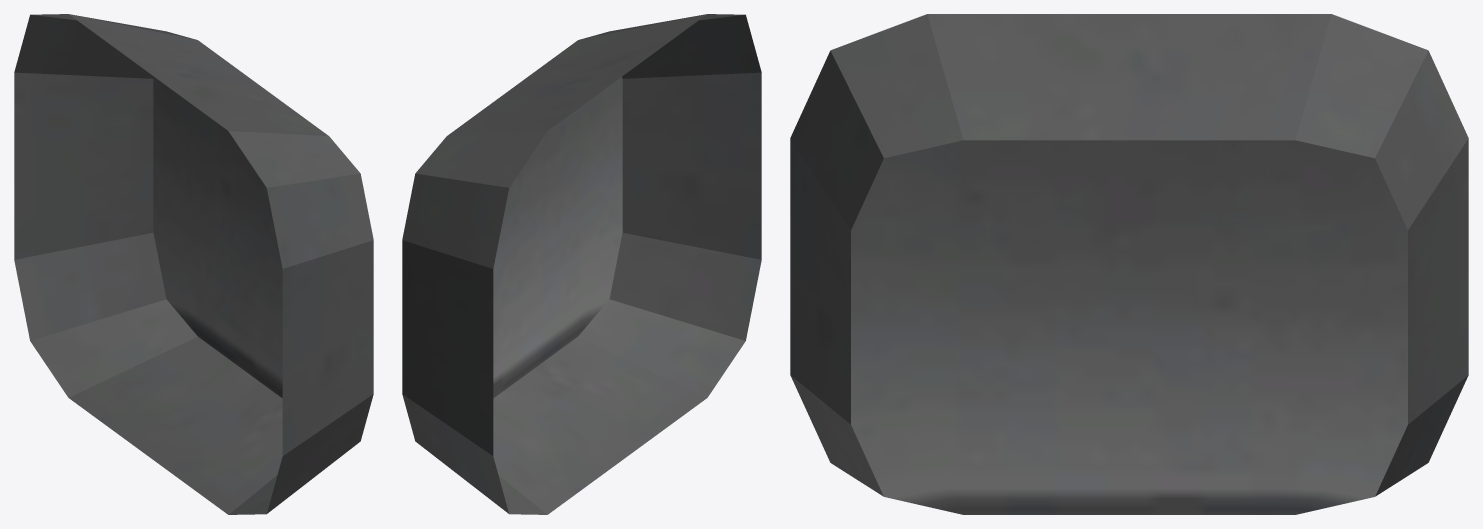
File: nt_2020_wall_meter_dest_LOD2.obj
The picture shows the model from 3 angles, left to right: view 1: azimuth 30°, elevation 25°; view 2: azimuth 150°, elevation 25°; view 3: azimuth 270°, elevation 25°; orthographic projection. The views are drawn at different scales.
Visible parts, largest first — view 1: mtl_nt_2020_wall_meter_01_dest; view 2: mtl_nt_2020_wall_meter_01_dest; view 3: mtl_nt_2020_wall_meter_01_dest.
Boxes of the visible parts, box(x1,y1,x2,y2) form: mtl_nt_2020_wall_meter_01_dest: box(14, 14, 373, 514); mtl_nt_2020_wall_meter_01_dest: box(402, 14, 761, 514); mtl_nt_2020_wall_meter_01_dest: box(790, 14, 1468, 514).
Size of the model in its own units: 11.05 by 35.19 by 44.6.
